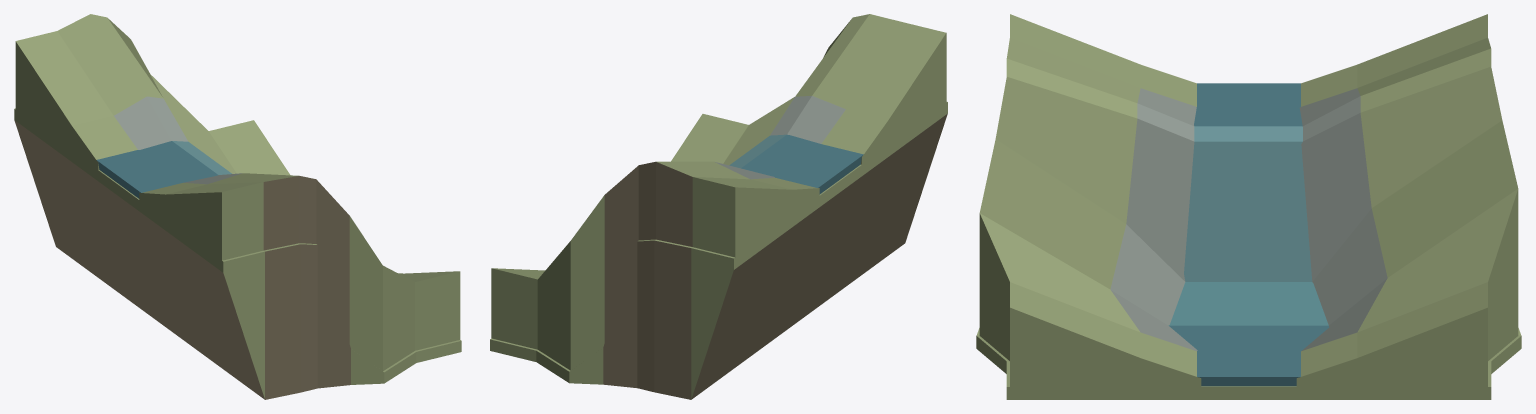
3 views of the same model, side by side, from view 1: azimuth 30°, elevation 25°; view 2: azimuth 150°, elevation 25°; view 3: azimuth 270°, elevation 25° (orthographic). The views are drawn at different scales.
Parts seen in each view (by area): view 1: Waterfall_ContinuousTerrain, WaterSurface_Runtime; view 2: Waterfall_ContinuousTerrain, WaterSurface_Runtime; view 3: Waterfall_ContinuousTerrain, WaterSurface_Runtime.
Part boxes in pixels (box(x1,y1,x2,y2)): Waterfall_ContinuousTerrain: box(14, 14, 461, 399); WaterSurface_Runtime: box(96, 141, 231, 198); Waterfall_ContinuousTerrain: box(490, 14, 947, 399); WaterSurface_Runtime: box(729, 134, 863, 194); Waterfall_ContinuousTerrain: box(976, 14, 1521, 399); WaterSurface_Runtime: box(1168, 83, 1329, 386).
Bounding box in the file's own units: 2 × 1.8 × 3.42.
